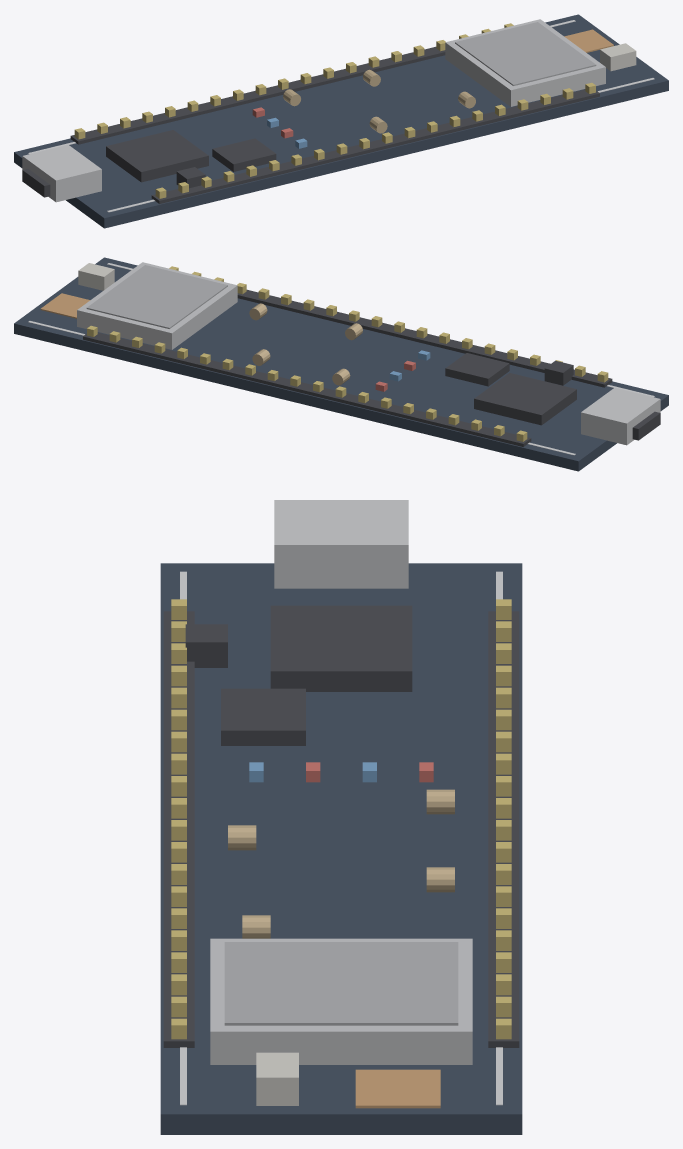
Rendered from dwm1001-dev.glb.
The picture shows the model from 3 angles, top to bottom: view 1: azimuth 30°, elevation 25°; view 2: azimuth 150°, elevation 25°; view 3: azimuth 270°, elevation 25°; orthographic projection. The views are drawn at different scales.
Visible parts, largest first — view 1: world; view 2: world; view 3: world.
Boxes of the visible parts, bbox=[...] form: world: bbox=[14, 14, 668, 228]; world: bbox=[14, 257, 668, 471]; world: bbox=[160, 500, 522, 1134].
Bounding box in the file's own units: 9.62 × 0.5 × 2.55.
